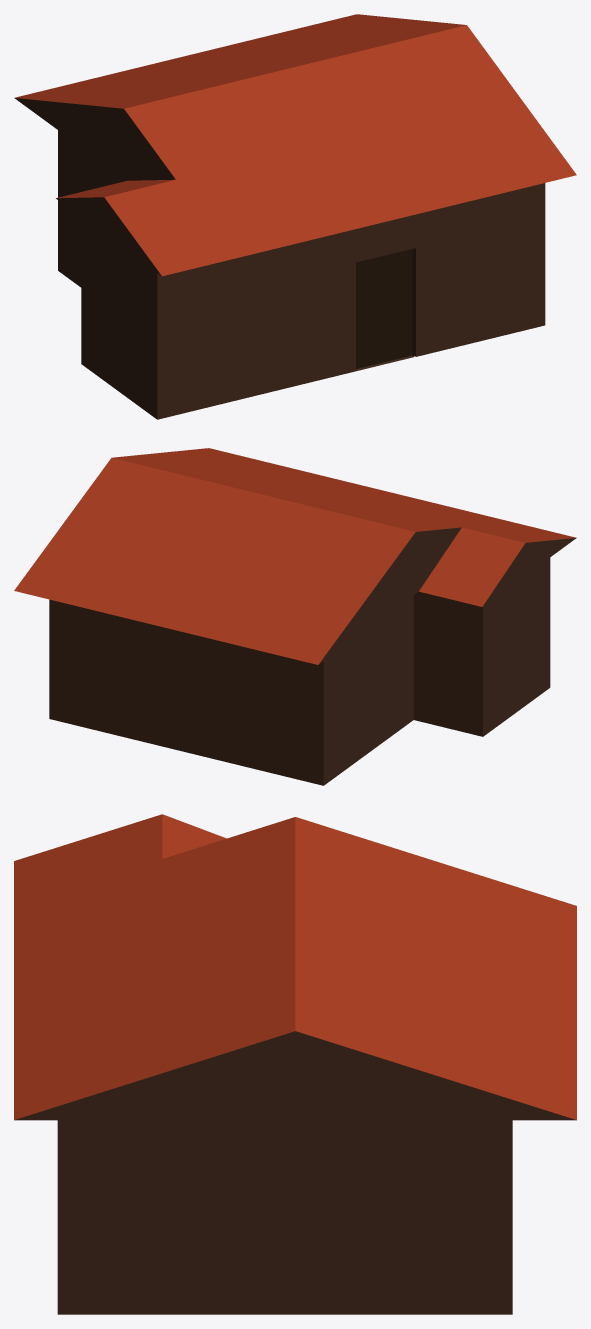
File: TestHouseExt.glb
3 renders of one model, top to bottom at view 1: azimuth 30°, elevation 25°; view 2: azimuth 150°, elevation 25°; view 3: azimuth 270°, elevation 25°, orthographic. The views are drawn at different scales.
Visible parts, largest first — view 1: Exterieur; view 2: Exterieur; view 3: Exterieur.
Boxes of the visible parts, <box> form: Exterieur: <box>14,14,576,419</box>; Exterieur: <box>14,448,576,785</box>; Exterieur: <box>14,814,576,1314</box>.
Size of the model in its own units: 11.13 by 5.87 by 10.23.
1 material, 1 textured.
